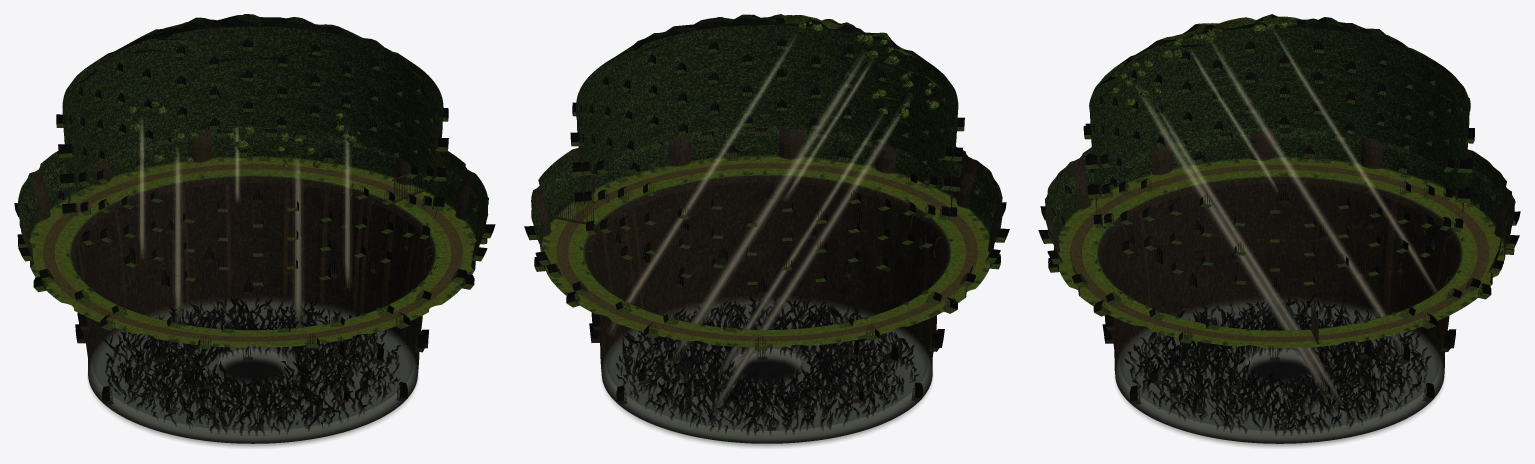
File: forest.glb
The picture shows the model from 3 angles, left to right: view 1: azimuth 30°, elevation 25°; view 2: azimuth 150°, elevation 25°; view 3: azimuth 270°, elevation 25°; orthographic projection.
Visible parts, largest first — view 1: ForestGround, ForestFog, ForestRaysSolid; view 2: ForestGround, ForestFog, ForestRaysSolid; view 3: ForestGround, ForestFog, ForestRaysSolid.
Part boxes in pixels (box(x1,y1,x2,y2)): ForestGround: box(14, 14, 495, 443); ForestFog: box(87, 299, 418, 447); ForestRaysSolid: box(140, 124, 349, 320); ForestGround: box(524, 14, 1009, 443); ForestFog: box(601, 299, 932, 447); ForestRaysSolid: box(627, 46, 904, 402); ForestGround: box(1038, 14, 1520, 443); ForestFog: box(1115, 300, 1444, 447); ForestRaysSolid: box(1142, 40, 1433, 394).
Size of what is drawn, in the model's own units: 122 by 91.29 by 123.
Materials: 4 (1 with a texture image).
